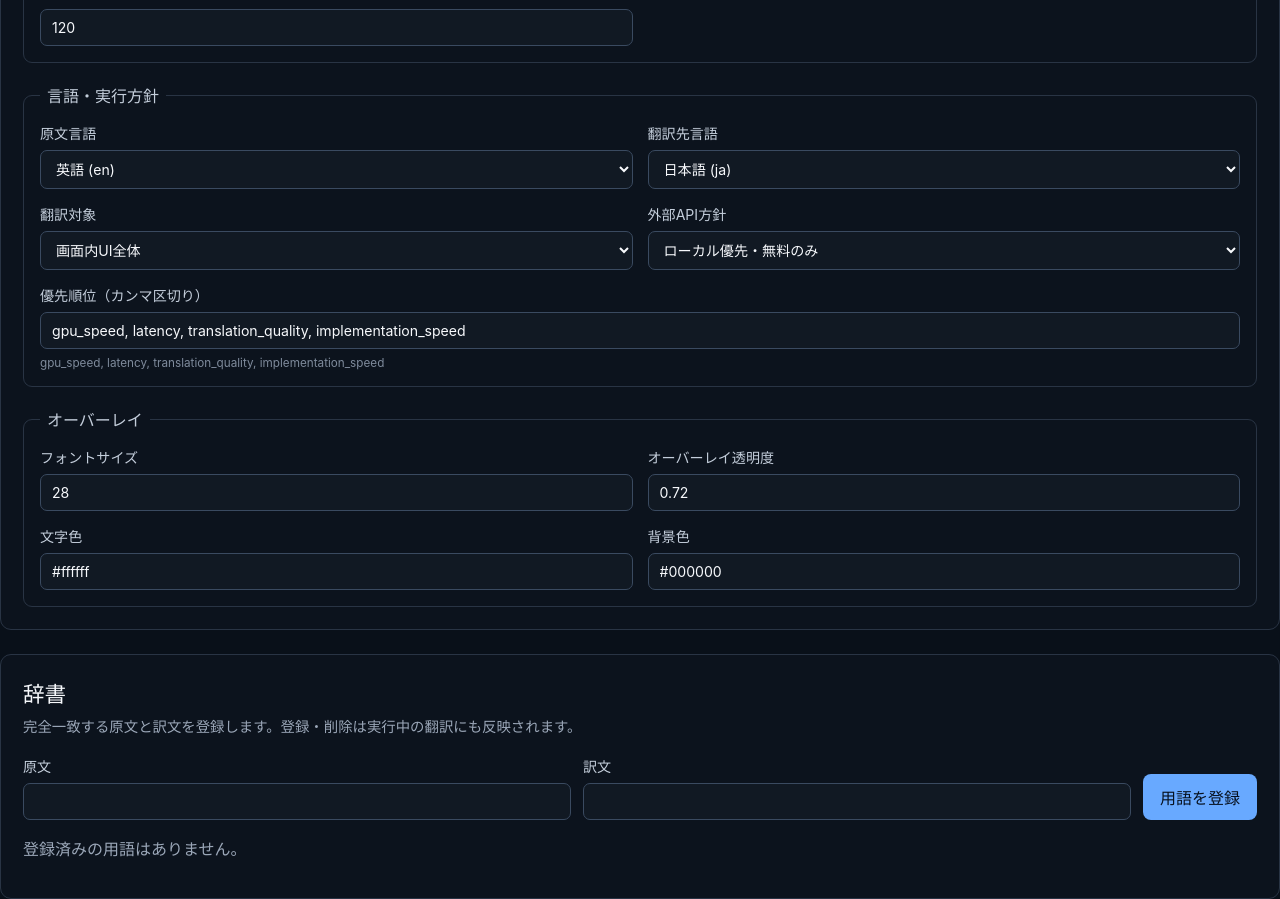
Test: SettingsPanel › 登録成功後の一覧再取得失敗を区別し、暫定一覧から再試行できる
(page scrolled)
Type "Save" into the field labelled "原文". click: (297,802)
box: [23,783,571,820]
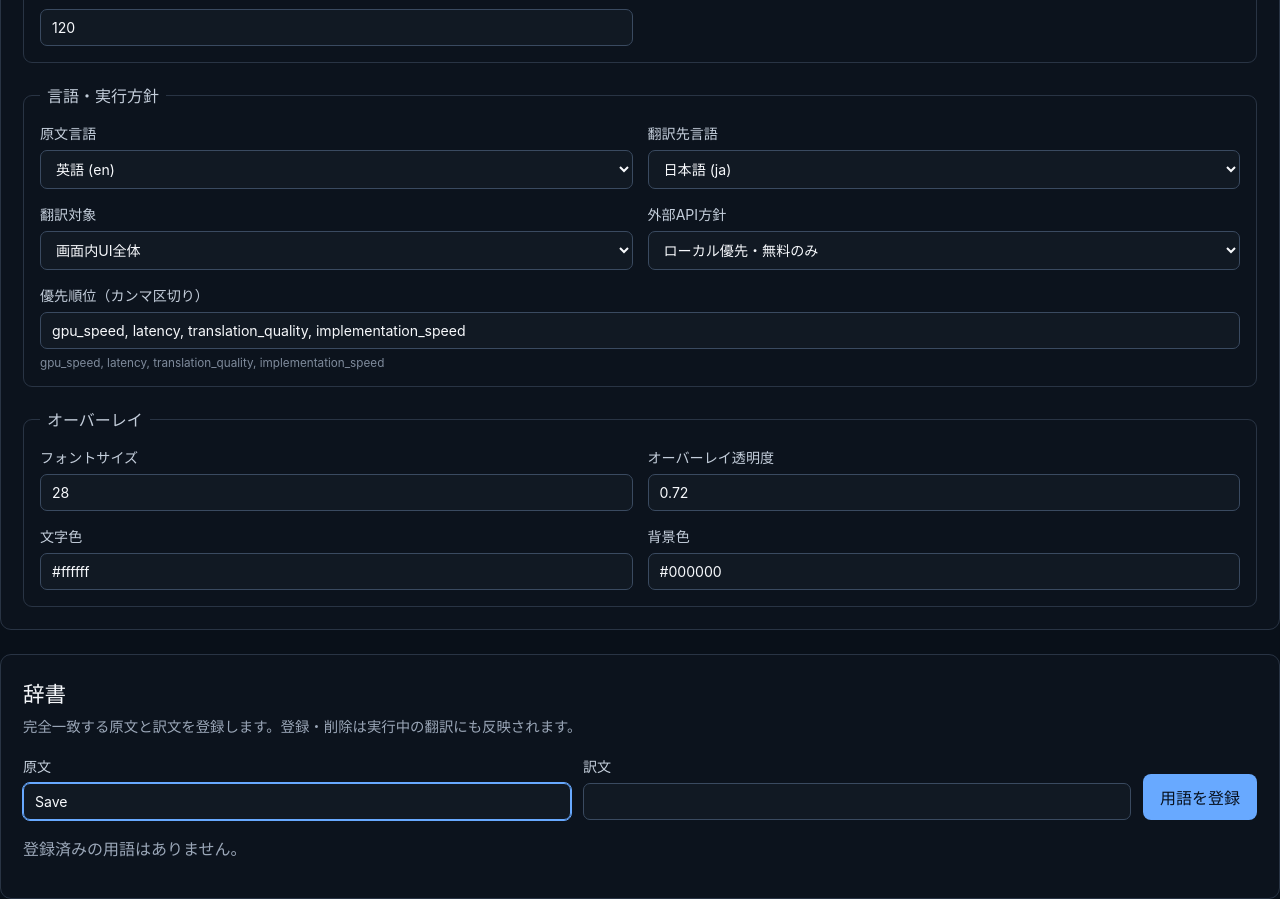
Type "セーブ" into the field labelled "訳文". click: (857,802)
box: [583,783,1131,820]
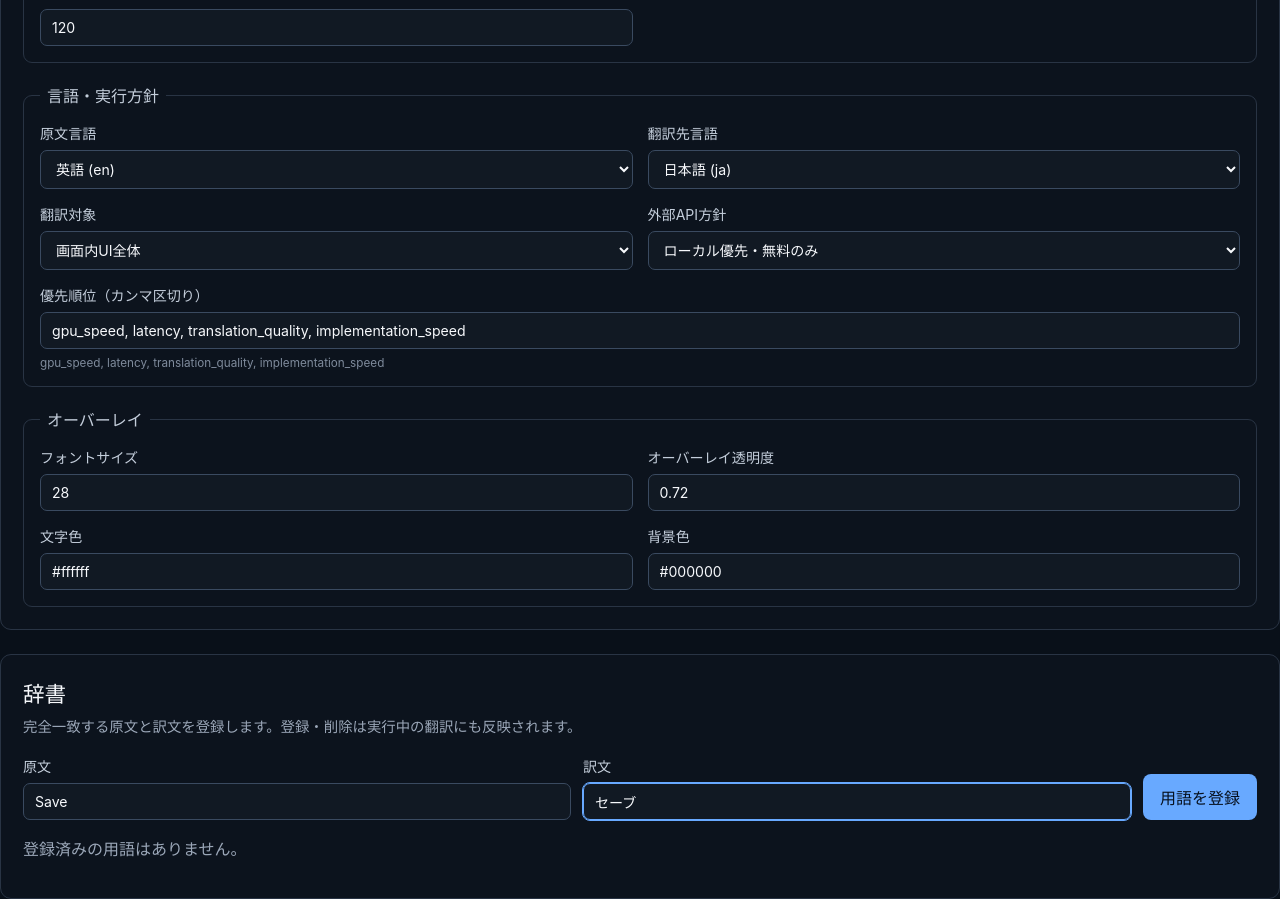
Click the button "用語を登録". click: (1200,797)
box: [1143,774,1257,820]
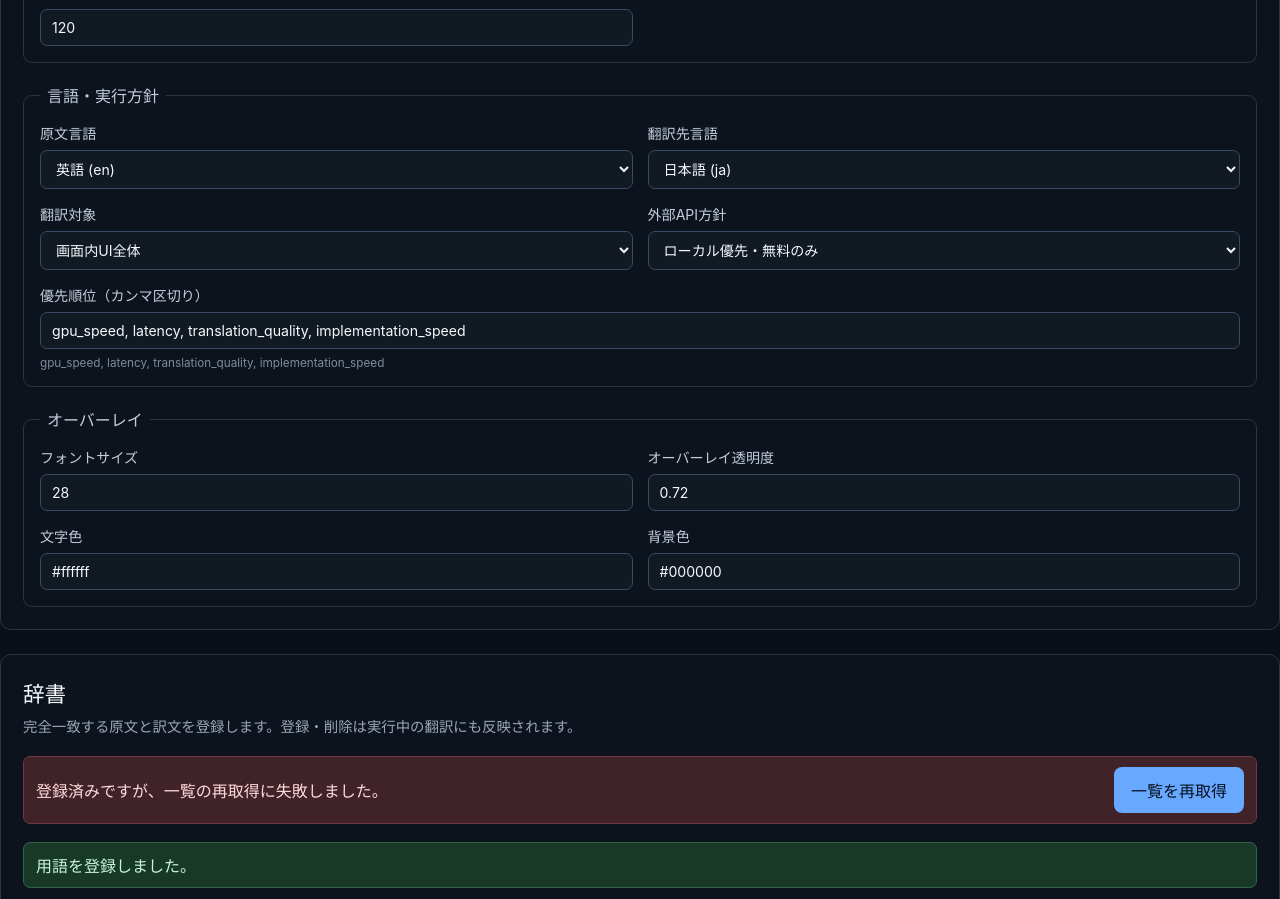
expect the message "登録済みですが、一覧の再取得に失敗しました。 一覧を再取得" is shown: met, box [23,756,1257,824]
Click the button "一覧を再取得". click: (1179,790)
box: [1114,767,1244,813]
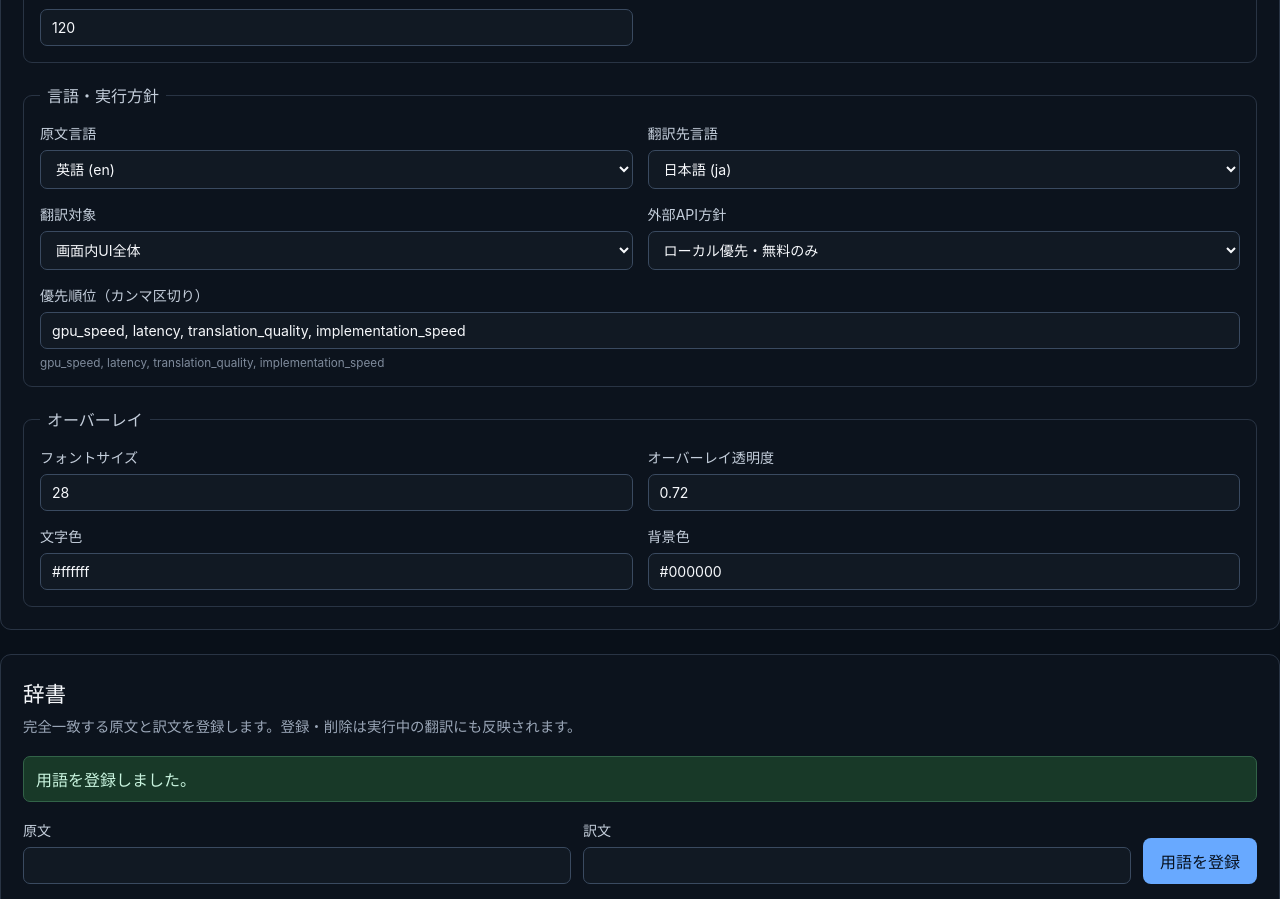
expect the message "登録済みですが、一覧の再取得に失敗しました。 一覧を再取得" is gone: met
